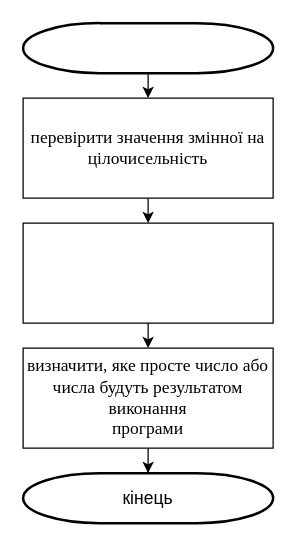
Image size: 295x545. Some labels were removed from this diagram. The shapes that lost their labels are listed below. From the top down, each one's centre as x and y in pixels, then its label:
point (147, 47): початок
point (147, 272): відшукати значення простих чисел зліва та справа від введеного користувачем
